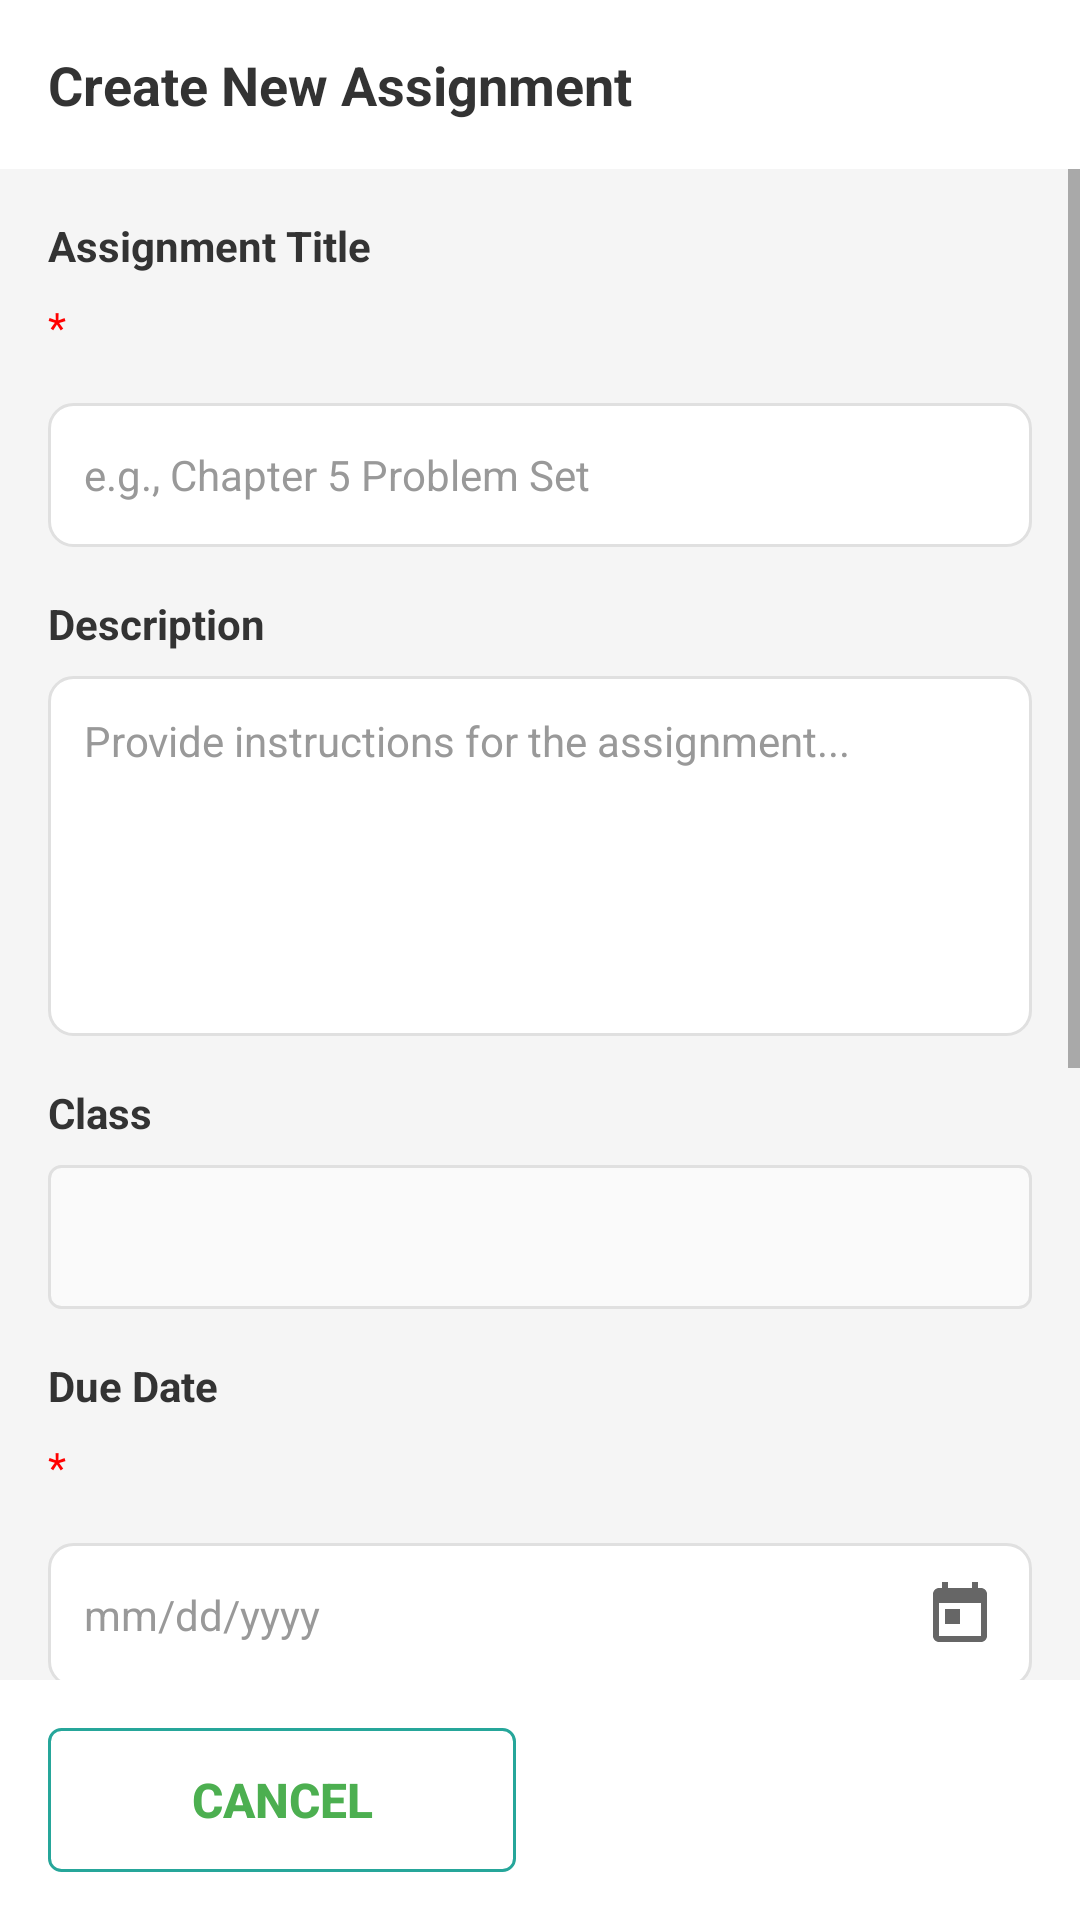

Named icons in this screenshot (1080px x 1920px) and their bounding boxes, box=[x1, y1, x2, y2]:
calendar: box=[933, 1582, 987, 1642]
